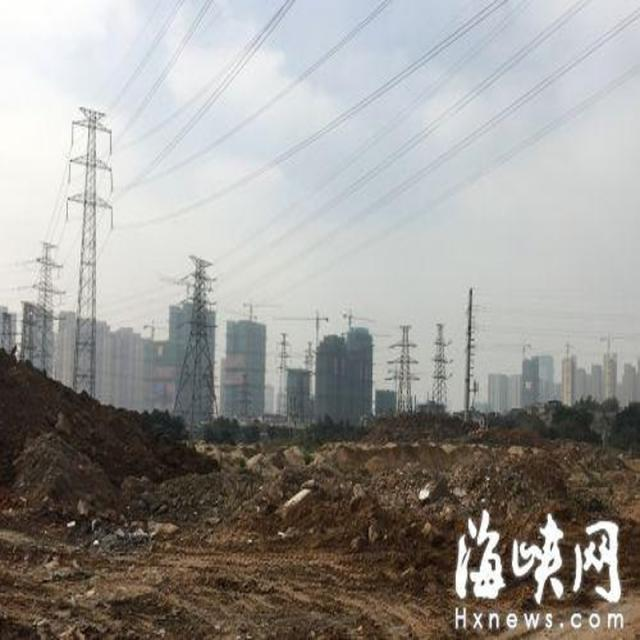non-critical vegetation: (62, 104, 120, 414), (168, 243, 223, 433), (386, 321, 417, 424), (428, 315, 456, 412)
